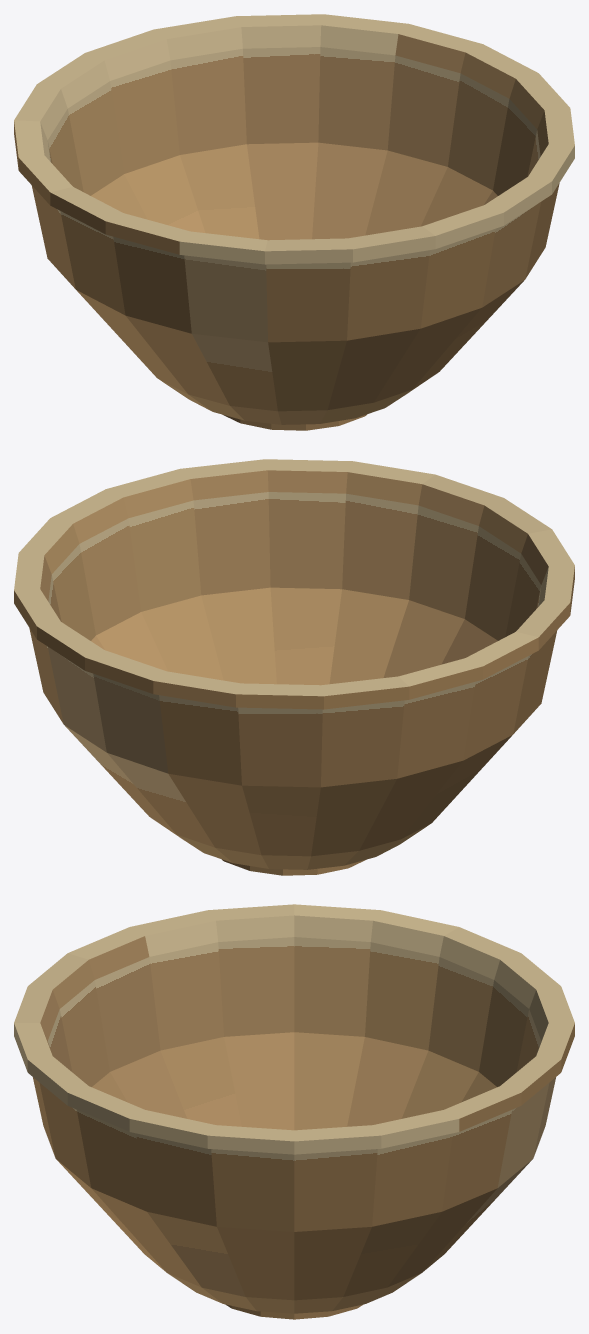
Rendered from vessel-shigaraki.glb.
The picture shows the model from 3 angles, top to bottom: view 1: azimuth 30°, elevation 25°; view 2: azimuth 150°, elevation 25°; view 3: azimuth 270°, elevation 25°; orthographic projection.
Parts seen in each view (by area): view 1: vessel-shigaraki/complete-inner-outer-shell-with-drainage, vessel-shigaraki/complete-open-foot-ring; view 2: vessel-shigaraki/complete-inner-outer-shell-with-drainage, vessel-shigaraki/complete-open-foot-ring; view 3: vessel-shigaraki/complete-inner-outer-shell-with-drainage, vessel-shigaraki/complete-open-foot-ring.
Part boxes in pixels (x1,y1,x2,y2): vessel-shigaraki/complete-inner-outer-shell-with-drainage: (14, 14, 574, 424); vessel-shigaraki/complete-open-foot-ring: (223, 414, 366, 430); vessel-shigaraki/complete-inner-outer-shell-with-drainage: (14, 459, 574, 869); vessel-shigaraki/complete-open-foot-ring: (222, 859, 365, 875); vessel-shigaraki/complete-inner-outer-shell-with-drainage: (14, 904, 574, 1313); vessel-shigaraki/complete-open-foot-ring: (225, 1304, 363, 1319).
Bounding box in the file's own units: 0.3864 × 0.197 × 0.3864.
Materials: 1 (1 with a texture image).
